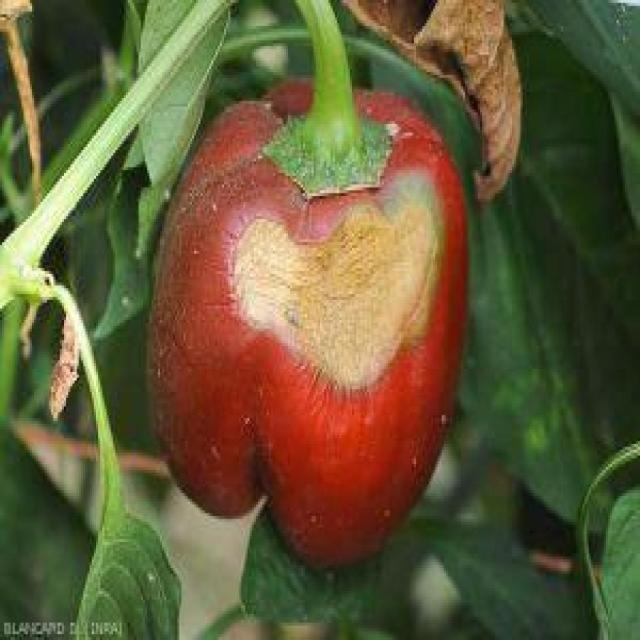Sunscald Fruit: (152, 112, 297, 260)
